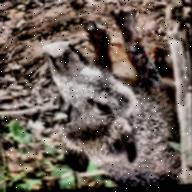boar: (41, 6, 191, 190)
